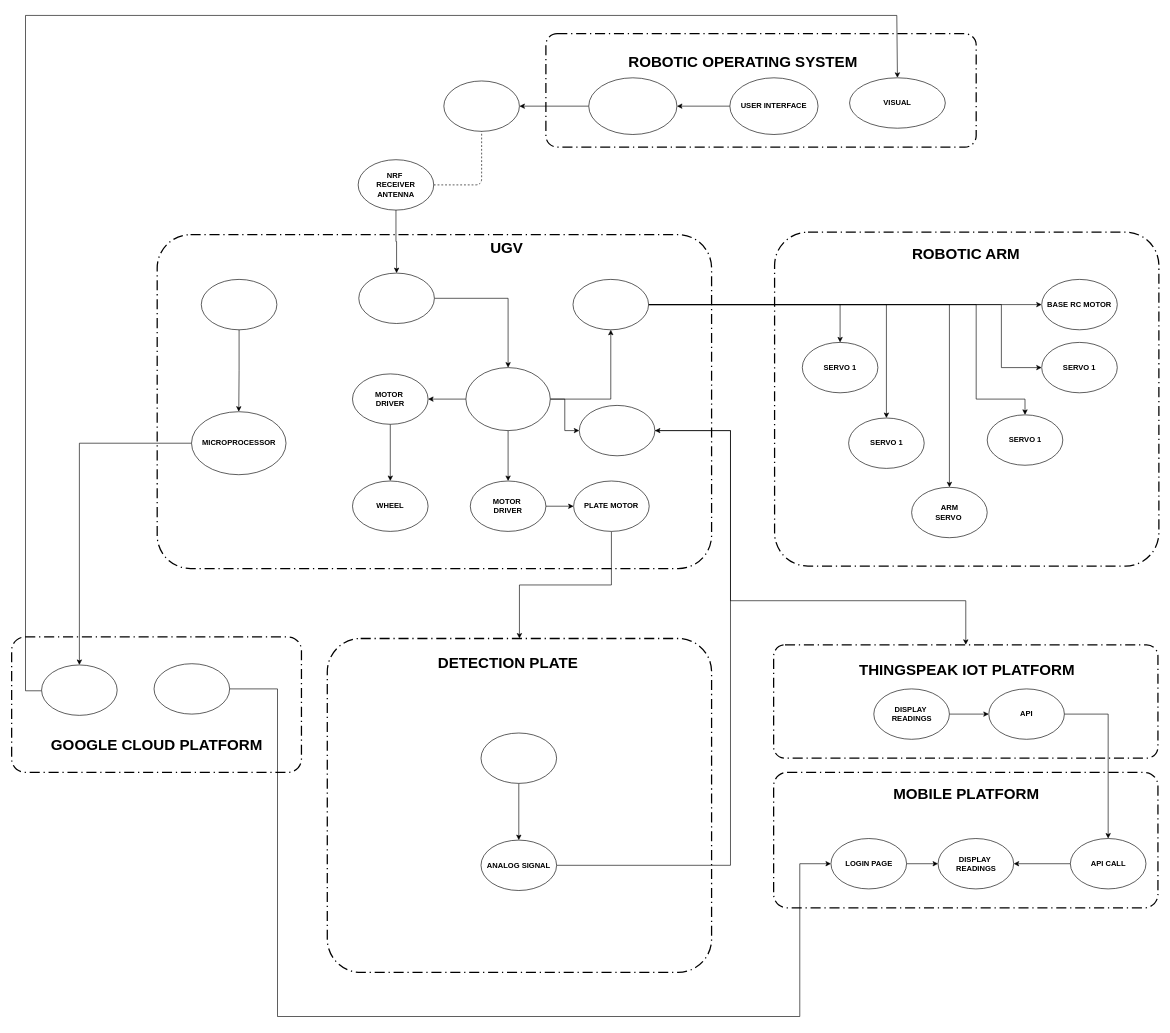
Image size: 1170x1033. Some labels were removed from this diagram. Here are the shapes that lost their labels. From the top down, the centre of each, then its label:
(x=481, y=105): NRF TRANSMITTER ANTENNA
(x=632, y=106): NRF TRANSMITTER MODULE
(x=239, y=304): CAMERA MODULE
(x=396, y=298): NRF RECEIVER MODULE
(x=610, y=304): ARM SIGNAL
(x=507, y=399): MICROCONTROLLER
(x=617, y=430): ESP8266 MODULE
(x=79, y=689): VISION API
(x=191, y=688): DATABASE
(x=518, y=757): DETECTION COIL
